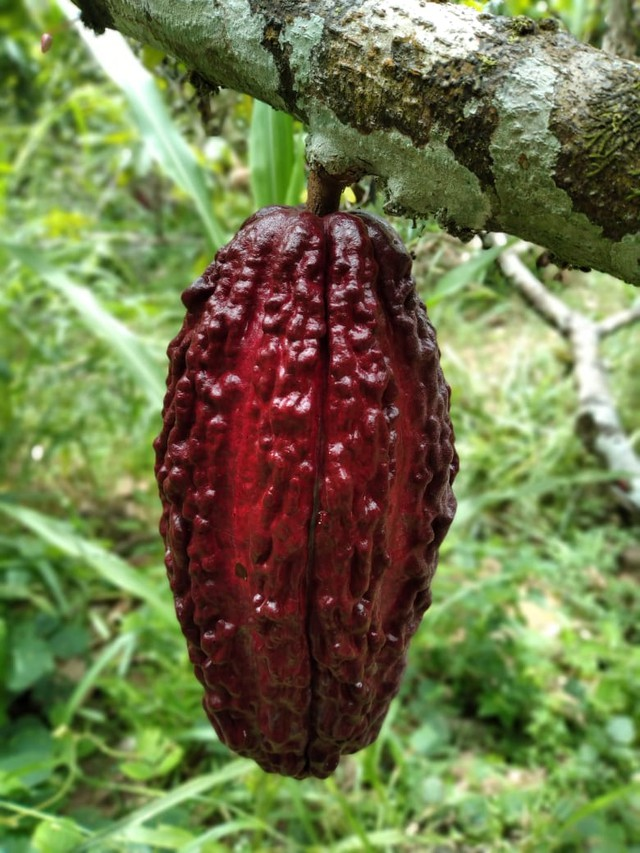Health: (150, 196, 464, 782)
